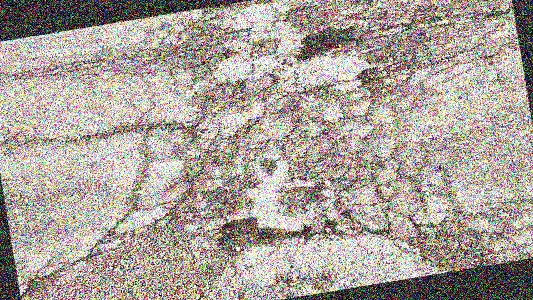pothole: (292, 19, 369, 64), (214, 211, 275, 260)
